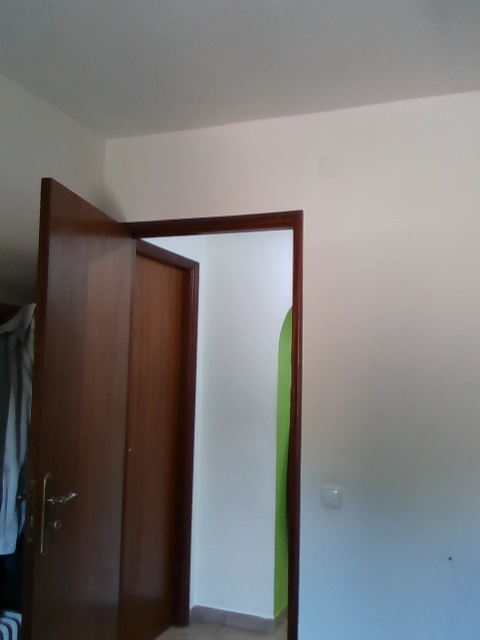open: (18, 184, 307, 639)
